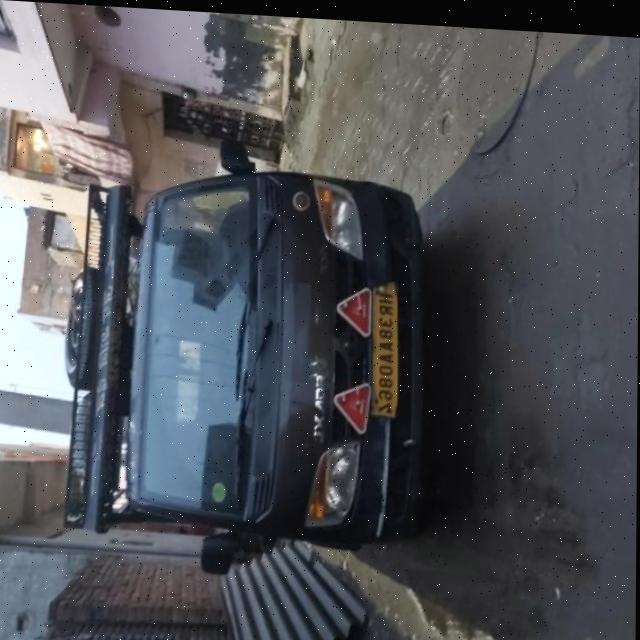plate: (371, 273, 406, 420)
